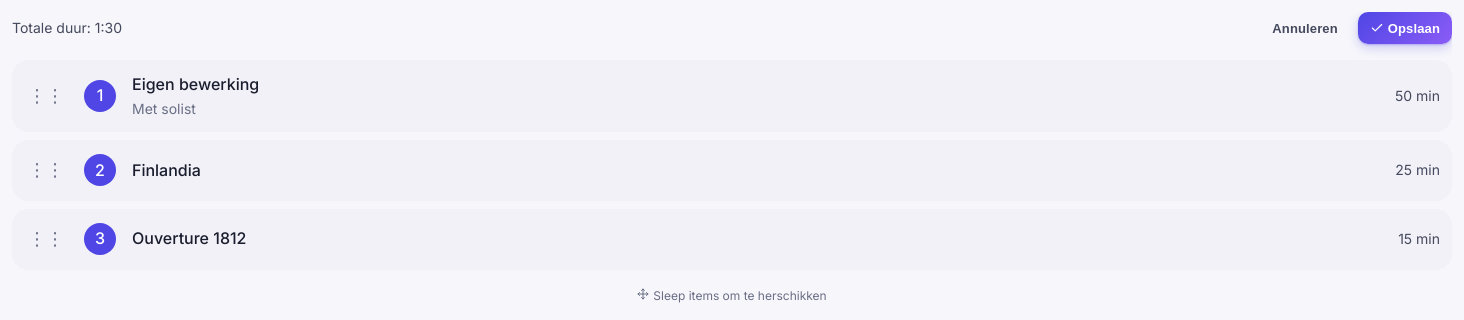
Test case: ProjectSetlistSection: opslaan › stuurt de nieuwe volgorde naar de server en meldt het
The image size is (1464, 320).
Click the button "Opslaan". click: (1405, 28)
box: [1358,12,1452,44]
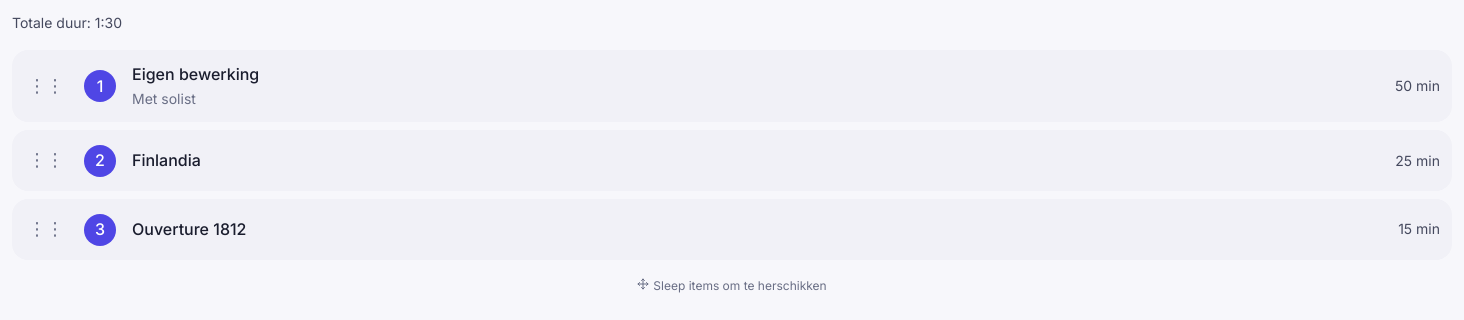
Expected: the button "Opslaan" is gone
